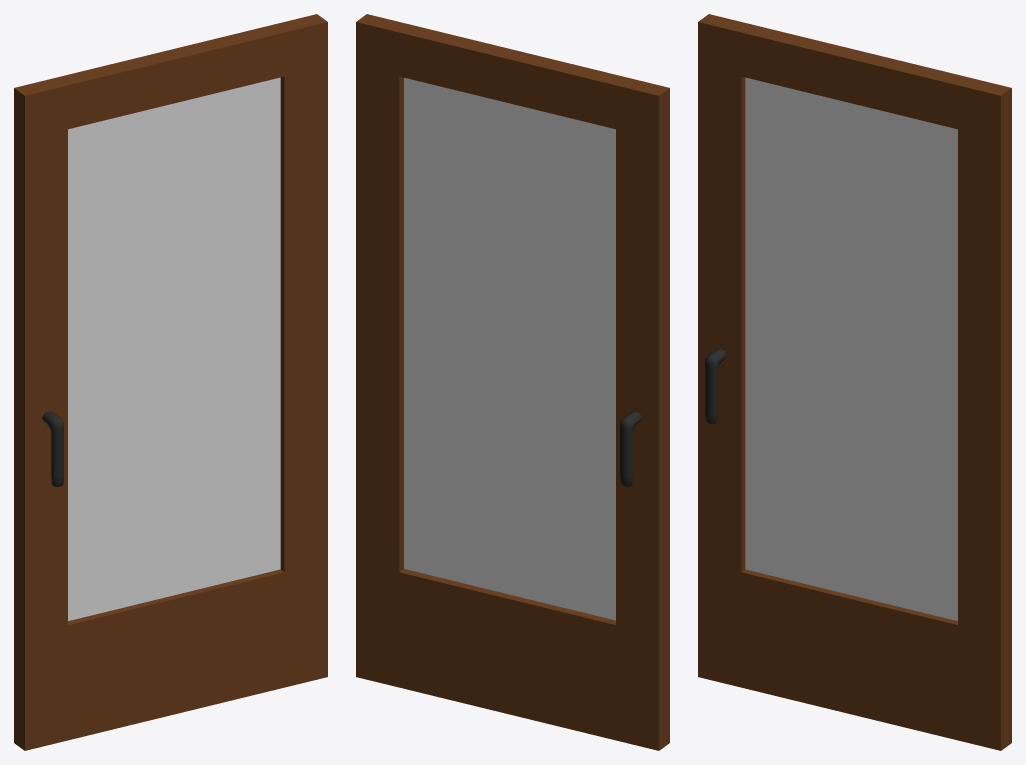
File: Door.fbx
The picture shows the model from 3 angles, left to right: view 1: azimuth 30°, elevation 25°; view 2: azimuth 150°, elevation 25°; view 3: azimuth 330°, elevation 25°; orthographic projection.
Parts seen in each view (by area): view 1: Door; view 2: Door; view 3: Door.
Part boxes in pixels (left/top/right/bottom): Door: left=14, top=14, right=327, bottom=750; Door: left=356, top=14, right=669, bottom=750; Door: left=698, top=14, right=1011, bottom=750.
Bounding box in the file's own units: 83.06 × 172 × 16.85.
